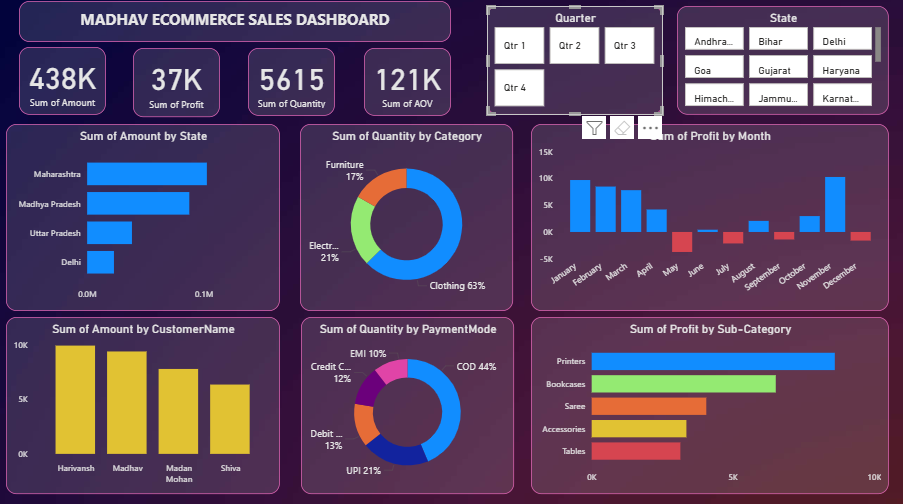

The dashboard page shown, as its layout file describes it:
{"tool":"powerbi","page":{"name":"Page 1","canvas":[1280,720],"ordinal":0},"visuals":[{"type":"columnChart","fields":{"Category":["Orders.Order Date.Variation.Date Hierarchy.Month"],"Y":["Details.Profit"]},"box":[754,181.4,507.4,265],"z":1000},{"type":"barChart","fields":{"Category":["Details.Sub-Category"],"Y":["Details.Profit"]},"box":[754,455,507.4,250.9],"z":2000},{"type":"donutChart","fields":{"Category":["Details.Category"],"Y":["Details.Quantity"]},"box":[426.6,181.4,301.9,265],"z":3000},{"type":"donutChart","fields":{"Y":["Details.Quantity"],"Category":["Details.PaymentMode"]},"box":[428,455,301.9,250.9],"z":4000},{"type":"card","fields":{"Values":["Details.Amount"]},"box":[28.3,72.3,123.3,96.4],"z":5000},{"type":"card","fields":{"Values":["Details.Profit"]},"box":[189.9,73.7,123.3,97.8],"z":6000},{"type":"card","fields":{"Values":["Details.Quantity"]},"box":[352.9,73.7,123.3,96.4],"z":7000},{"type":"card","fields":{"Values":["Details.AOV"]},"box":[517.3,73.7,123.3,96.4],"z":8000},{"type":"barChart","fields":{"Category":["Orders.State"],"Y":["Details.Amount"]},"box":[9.9,181.4,388.3,265],"z":9000},{"type":"columnChart","fields":{"Category":["Orders.CustomerName"],"Y":["Details.Amount"]},"box":[10,455,388,251],"z":10000},{"type":"advancedSlicerVisual","fields":{"Values":["Orders.Order Date.Variation.Date Hierarchy.Quarter"]},"box":[691.7,14.2,249.4,154.5],"z":11000},{"type":"advancedSlicerVisual","fields":{"Values":["Orders.State"]},"box":[960.9,14.2,300.5,154.5],"z":12000},{"type":"textbox","box":[28.3,7.1,612.3,58.1],"z":12001}]}

Visuals, with their boxes in screenshot pixels (x1, y1, x2, y2), scaled from the page's 1280x720 canvas onto the 903x504 screenshot:
columnChart - Orders.Order Date.Variation.Date Hierarchy.Month x Details.Profit: left=532, top=127, right=890, bottom=312
barChart - Details.Sub-Category x Details.Profit: left=532, top=318, right=890, bottom=494
donutChart - Details.Category x Details.Quantity: left=301, top=127, right=514, bottom=312
donutChart - Details.Quantity x Details.PaymentMode: left=302, top=318, right=515, bottom=494
card - Details.Amount: left=20, top=51, right=107, bottom=118
card - Details.Profit: left=134, top=52, right=221, bottom=120
card - Details.Quantity: left=249, top=52, right=336, bottom=119
card - Details.AOV: left=365, top=52, right=452, bottom=119
barChart - Orders.State x Details.Amount: left=7, top=127, right=281, bottom=312
columnChart - Orders.CustomerName x Details.Amount: left=7, top=318, right=281, bottom=494
advancedSlicerVisual - Orders.Order Date.Variation.Date Hierarchy.Quarter: left=488, top=10, right=664, bottom=118
advancedSlicerVisual - Orders.State: left=678, top=10, right=890, bottom=118
textbox: left=20, top=5, right=452, bottom=46
